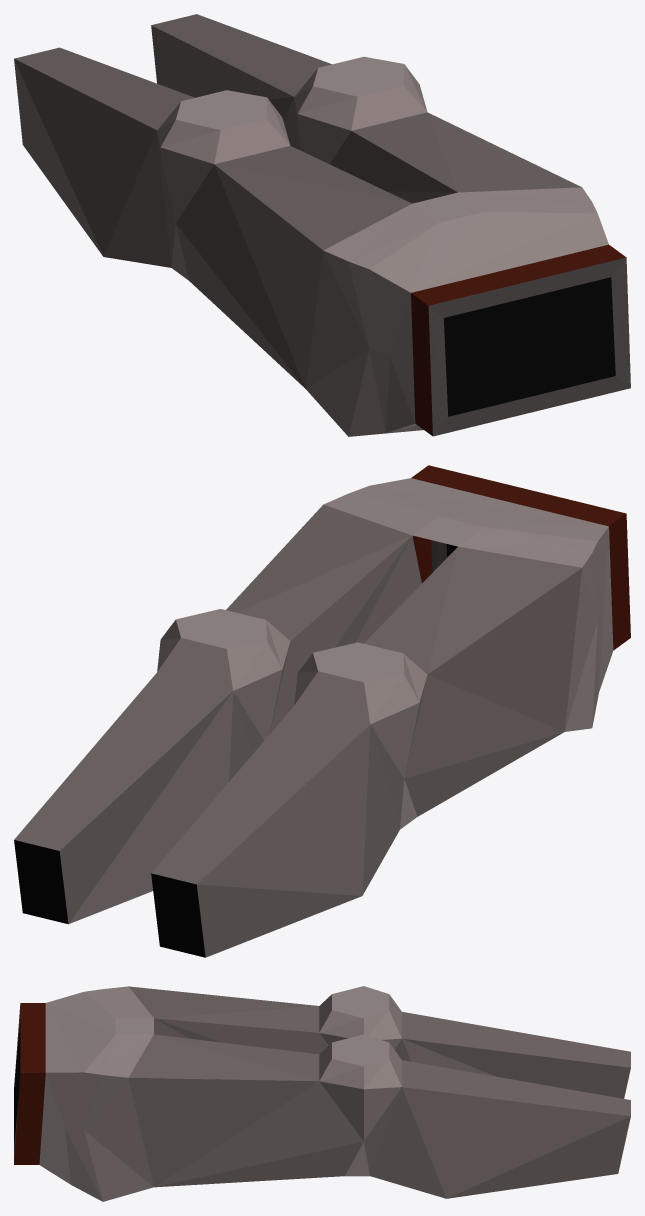
File: inv_zamorak_platelegs.obj
3 views of the same model, one above another, from view 1: azimuth 30°, elevation 25°; view 2: azimuth 150°, elevation 25°; view 3: azimuth 270°, elevation 25° (orthographic). The views are drawn at different scales.
Bounding box in the file's own units: 0.2656 × 0.1875 × 0.7578.
